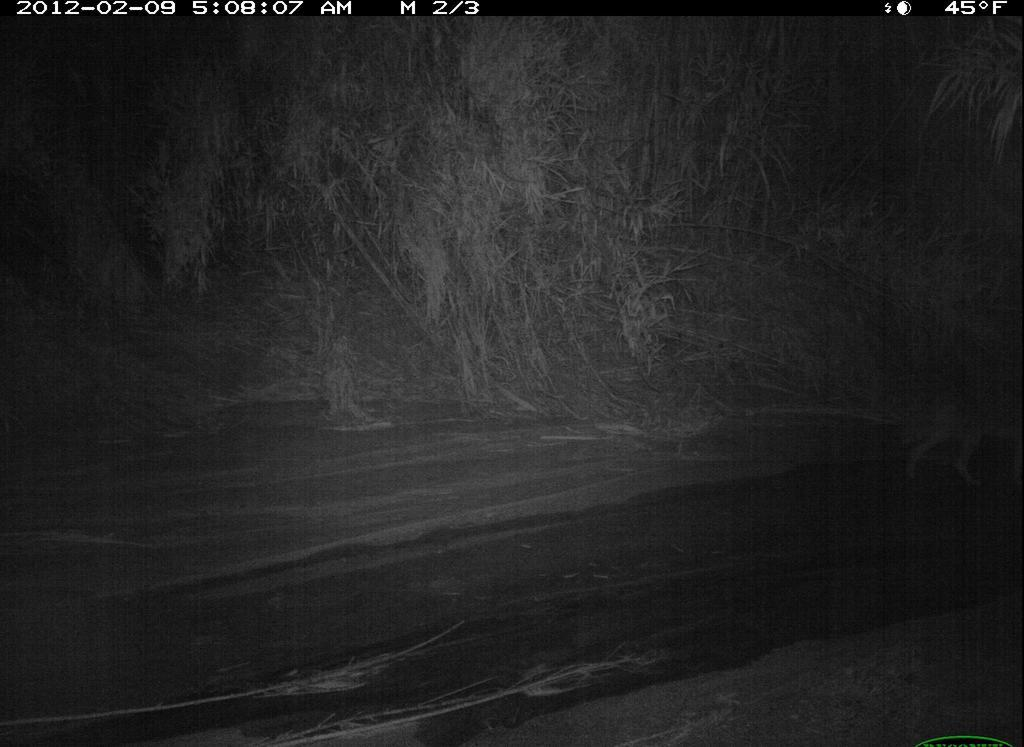coyote: (894, 376, 1023, 484)
